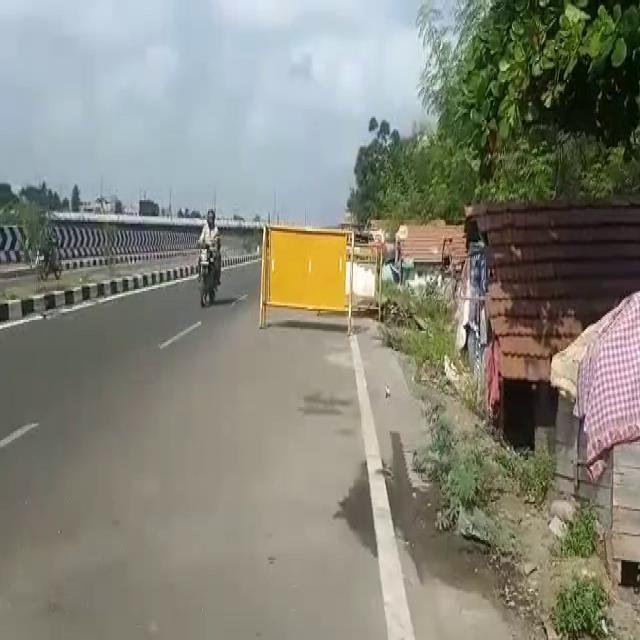fallen_object: (243, 199, 372, 356)
